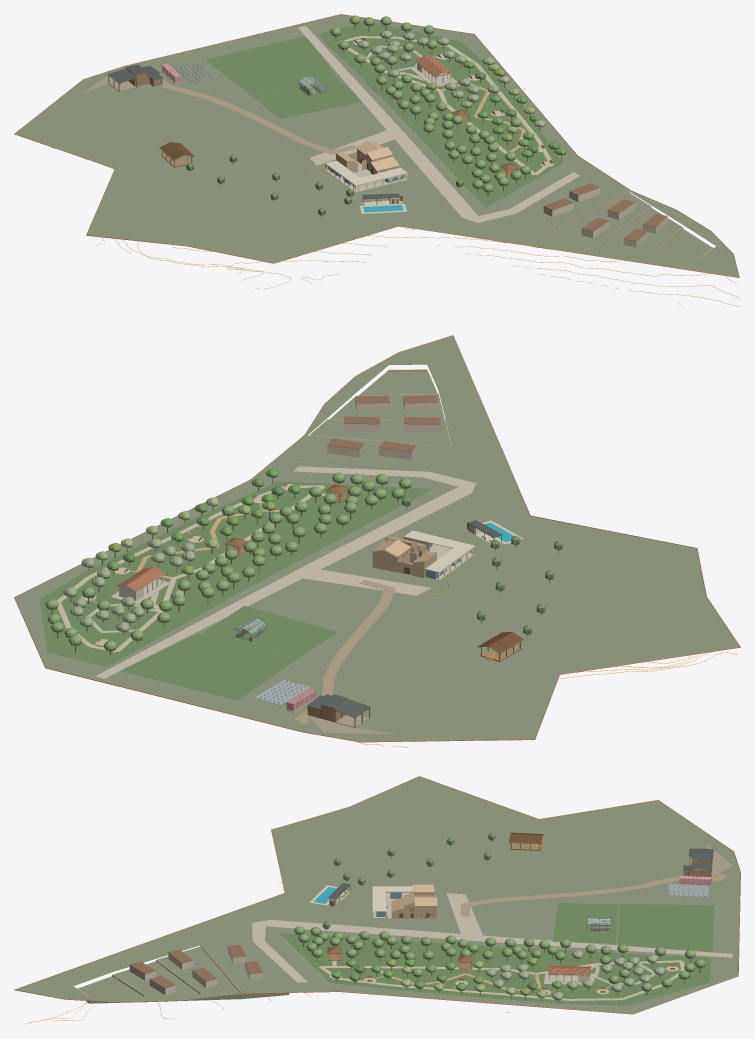
The model's file is casa-la-parra.glb.
The picture shows the model from 3 angles, top to bottom: view 1: azimuth 30°, elevation 25°; view 2: azimuth 150°, elevation 25°; view 3: azimuth 270°, elevation 25°; orthographic projection. The views are drawn at different scales.
Parts seen in each view (by area): view 1: Parcel - straight chords between printed survey vertices.001, Orchard east.001, Orchard north.001, Access drive diagram.001, Kitchen garden.001, Terrace 1 | editable ground level.001, Parcel boundary - coordinate chords.001, Terrace 2 | editable ground level.001, Around walk.001, Unpaved road | Garage to parking | 3.5m.001, Terrace 3 | editable ground level.001, Terrace 4 | editable ground level.001 (+2 smaller); view 2: Parcel - straight chords between printed survey vertices.001, Orchard east.001, Orchard north.001, Access drive diagram.001, Kitchen garden.001, Terrace 1 | editable ground level.001, Parcel boundary - coordinate chords.001, Terrace 2 | editable ground level.001, Unpaved road | Garage to parking | 3.5m.001, Around walk.001, Terrace 4 | editable ground level.001, Terrace 3 | editable ground level.001 (+2 smaller); view 3: Parcel - straight chords between printed survey vertices.001, Orchard east.001, Orchard north.001, Access drive diagram.001, Terrace 1 | editable ground level.001, Kitchen garden.001, Parcel boundary - coordinate chords.001, Terrace 2 | editable ground level.001, Around walk.001, Unpaved road | Garage to parking | 3.5m.001, Terrace 3 | editable ground level.001, Terrace 4 | editable ground level.001 (+2 smaller).
Part boxes in pixels (x1,y1,x2,y2): Parcel - straight chords between printed survey vertices.001: (15, 14, 739, 277); Orchard east.001: (317, 23, 562, 207); Orchard north.001: (206, 36, 335, 95); Access drive diagram.001: (298, 26, 579, 222); Kitchen garden.001: (253, 76, 361, 118); Terrace 1 | editable ground level.001: (500, 175, 629, 230); Parcel boundary - coordinate chords.001: (14, 14, 739, 277); Terrace 2 | editable ground level.001: (553, 193, 650, 240); Around walk.001: (338, 36, 552, 175); Unpaved road | Garage to parking | 3.5m.001: (161, 79, 356, 154); Terrace 3 | editable ground level.001: (605, 208, 682, 250); Terrace 4 | editable ground level.001: (657, 229, 712, 257); Parcel - straight chords between printed survey vertices.001: (15, 336, 739, 742); Orchard east.001: (39, 481, 432, 666); Orchard north.001: (120, 633, 297, 700); Access drive diagram.001: (95, 466, 476, 678); Kitchen garden.001: (202, 605, 338, 657); Terrace 1 | editable ground level.001: (289, 435, 454, 475); Parcel boundary - coordinate chords.001: (14, 335, 740, 742); Terrace 2 | editable ground level.001: (309, 419, 451, 445); Unpaved road | Garage to parking | 3.5m.001: (295, 580, 395, 724); Around walk.001: (57, 485, 325, 652); Terrace 4 | editable ground level.001: (359, 369, 437, 395); Terrace 3 | editable ground level.001: (330, 393, 444, 419); Parcel - straight chords between printed survey vertices.001: (15, 776, 740, 1013); Orchard east.001: (280, 933, 711, 1005); Orchard north.001: (617, 904, 713, 952); Access drive diagram.001: (252, 920, 732, 982); Terrace 1 | editable ground level.001: (201, 932, 289, 998); Kitchen garden.001: (552, 903, 617, 943); Parcel boundary - coordinate chords.001: (14, 776, 740, 1014); Terrace 2 | editable ground level.001: (156, 946, 241, 1000); Around walk.001: (319, 960, 684, 1000); Unpaved road | Garage to parking | 3.5m.001: (460, 874, 727, 916); Terrace 3 | editable ground level.001: (113, 961, 203, 1001); Terrace 4 | editable ground level.001: (78, 976, 146, 1003).
Size of the model in its own units: 219 by 23.43 by 283.
